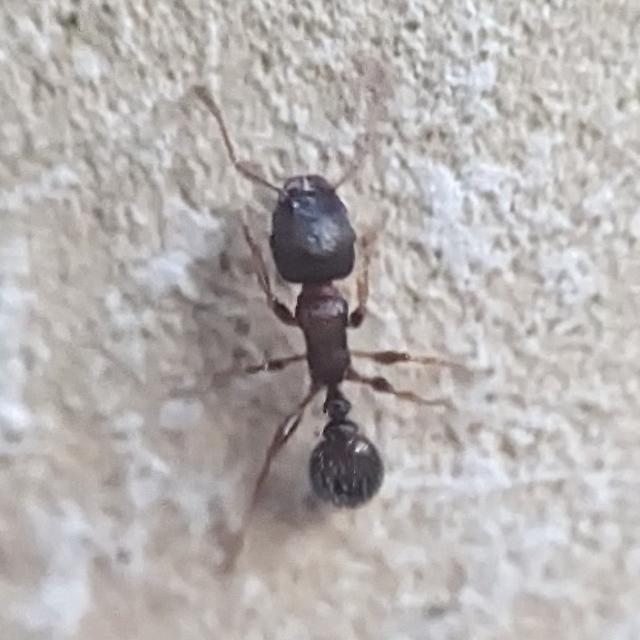Tetramorium: (217, 72, 428, 534)
